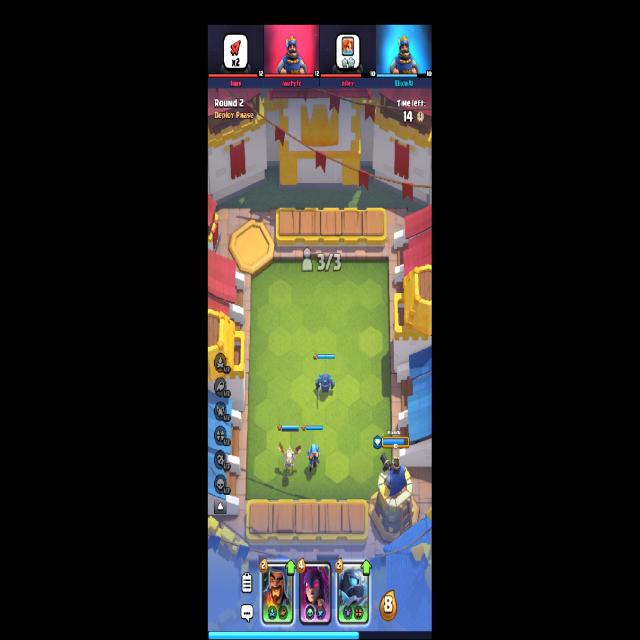card_mini_pekka: (336, 561, 370, 625)
card_witch: (299, 563, 332, 625)
card_wizard: (262, 562, 295, 624)
mini_pekka: (314, 372, 335, 398)
skeleton_dragon: (278, 441, 301, 474)
wizard: (307, 444, 321, 474)
